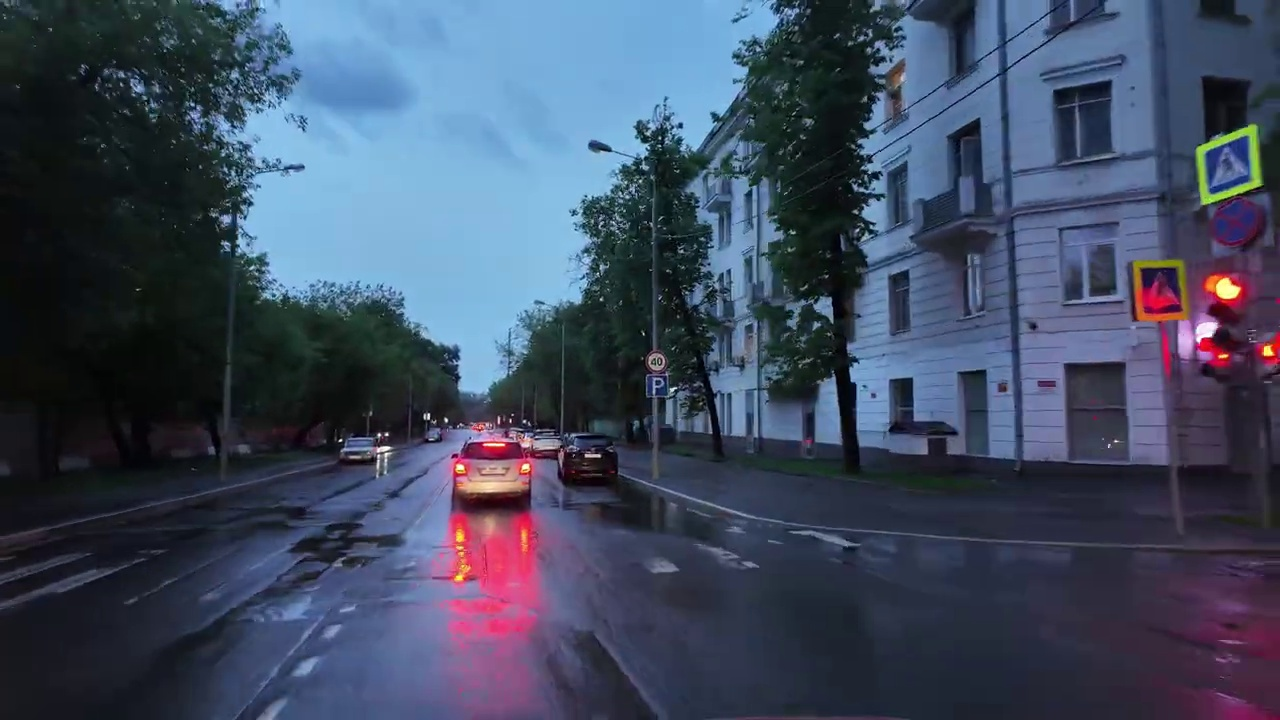apagada: (580, 129, 618, 165)
